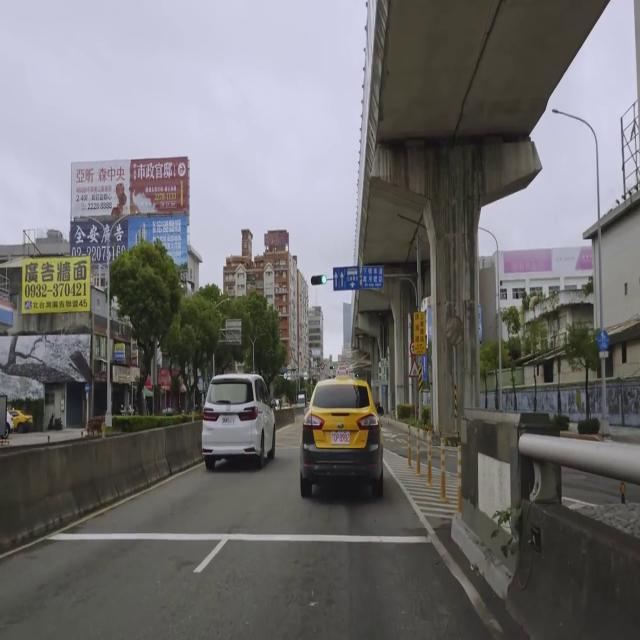green light: (310, 274, 327, 284)
